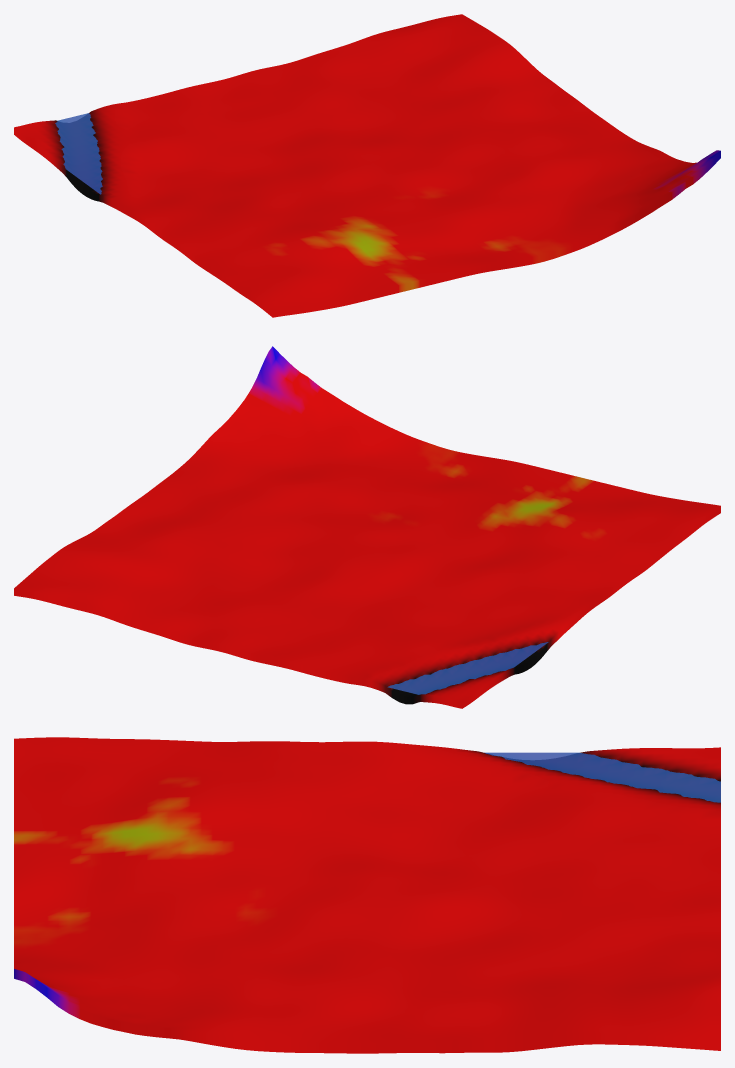
The model's file is chunk_5_5.glb.
The picture shows the model from 3 angles, top to bottom: view 1: azimuth 30°, elevation 25°; view 2: azimuth 150°, elevation 25°; view 3: azimuth 270°, elevation 25°; orthographic projection. The views are drawn at different scales.
Visible parts, largest first — view 1: LOD0, Water; view 2: LOD0, Water; view 3: LOD0, Water.
Part boxes in pixels (box(x1,y1,x2,y2)): LOD0: box(14, 14, 720, 317); Water: box(55, 113, 102, 194); LOD0: box(14, 346, 720, 708); Water: box(387, 642, 548, 694); LOD0: box(14, 737, 720, 1053); Water: box(484, 752, 720, 802).
Size of what is drawn, in the model's own units: 256 by 40.08 by 256.
